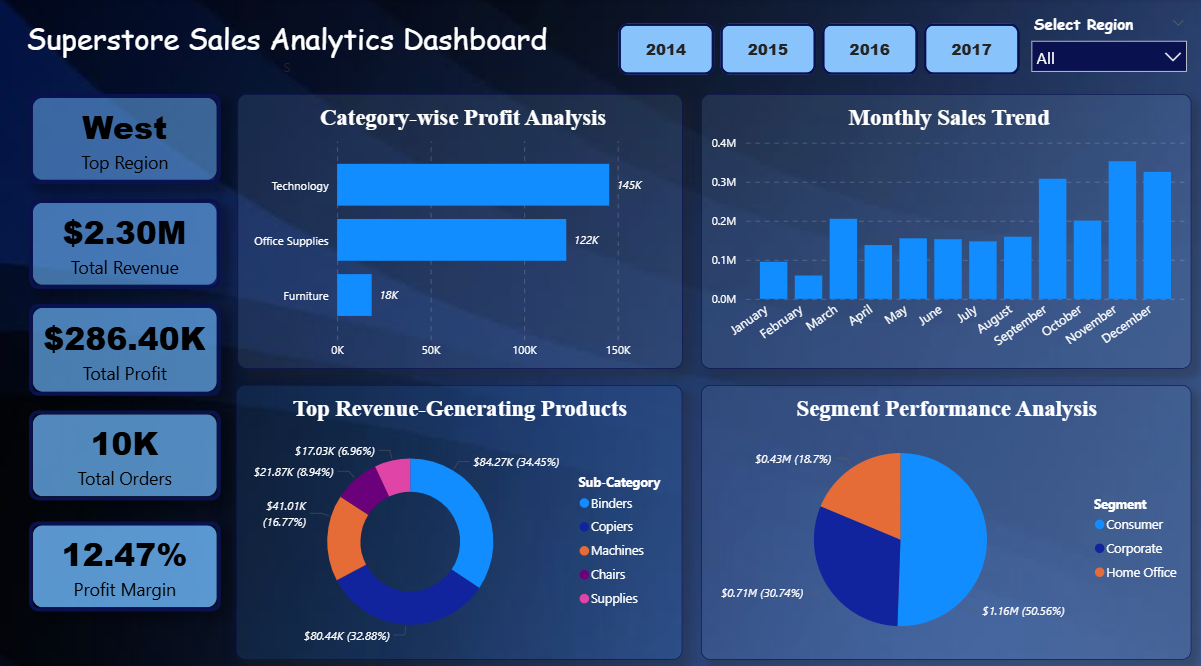

The dashboard page shown, as its layout file describes it:
{"tool":"powerbi","page":{"name":"Page 1","canvas":[1280,720],"ordinal":0},"visuals":[{"type":"textbox","title":"Superstore Sales Analytics Dashboard","box":[11.4,9.8,588,73],"z":0},{"type":"donutChart","title":"Top Revenue-Generating Products","fields":{"Y":["sales_data.Total Revenue"],"Category":["sales_data.Sub-Category"]},"box":[251.2,409.6,473.6,291.2],"z":1000},{"type":"advancedSlicerVisual","fields":{"Values":["sales_data.Year"]},"box":[656,25.6,430.4,57.6],"z":2000},{"type":"cardVisual","fields":{"Data":["sales_data.Total Revenue"]},"box":[31.8,213.1,203.6,95.4],"z":3000},{"type":"cardVisual","fields":{"Data":["sales_data.Total Profit"]},"box":[31.8,324.5,203.6,97],"z":4000},{"type":"cardVisual","fields":{"Data":["sales_data.Total Orders"]},"box":[31.8,437.4,203.6,95.4],"z":5000},{"type":"cardVisual","fields":{"Data":["sales_data.Profit Margin"]},"box":[31.8,555.1,203.6,95.4],"z":6000},{"type":"cardVisual","fields":{"Data":["sales_data.Top Region"]},"box":[31.8,101.8,203.6,95.4],"z":7000},{"type":"barChart","title":"Category-wise Profit Analysis","fields":{"Category":["sales_data.Category"],"Y":["Sum(sales_data.Profit)"]},"box":[252.8,102.4,472,291.2],"z":8000},{"type":"slicer","title":"Region","fields":{"Values":["sales_data.Region"]},"box":[1089.6,25.6,174.4,55],"z":9000},{"type":"columnChart","title":"Monthly Sales Trend","fields":{"Y":["Sum(sales_data.Sales)"],"Category":["sales_data.Month"]},"box":[744,102.4,520,291.2],"z":10000},{"type":"pieChart","title":"Segment Performance Analysis","fields":{"Category":["sales_data.Segment"],"Y":["sales_data.Total Revenue"]},"box":[744,409.6,520,291.2],"z":11000}]}

Visuals, with their boxes in screenshot pixels (x1, y1, x2, y2), scaled from the page's 1280x720 canvas onto the 1201x666 screenshot:
"Superstore Sales Analytics Dashboard" textbox: l=11, t=9, r=562, b=77
"Top Revenue-Generating Products" donutChart: l=236, t=379, r=680, b=648
advancedSlicerVisual - sales_data.Year: l=616, t=24, r=1019, b=77
cardVisual - sales_data.Total Revenue: l=30, t=197, r=221, b=285
cardVisual - sales_data.Total Profit: l=30, t=300, r=221, b=390
cardVisual - sales_data.Total Orders: l=30, t=405, r=221, b=493
cardVisual - sales_data.Profit Margin: l=30, t=513, r=221, b=602
cardVisual - sales_data.Top Region: l=30, t=94, r=221, b=182
"Category-wise Profit Analysis" barChart: l=237, t=95, r=680, b=364
"Region" slicer: l=1022, t=24, r=1186, b=75
"Monthly Sales Trend" columnChart: l=698, t=95, r=1186, b=364
"Segment Performance Analysis" pieChart: l=698, t=379, r=1186, b=648
